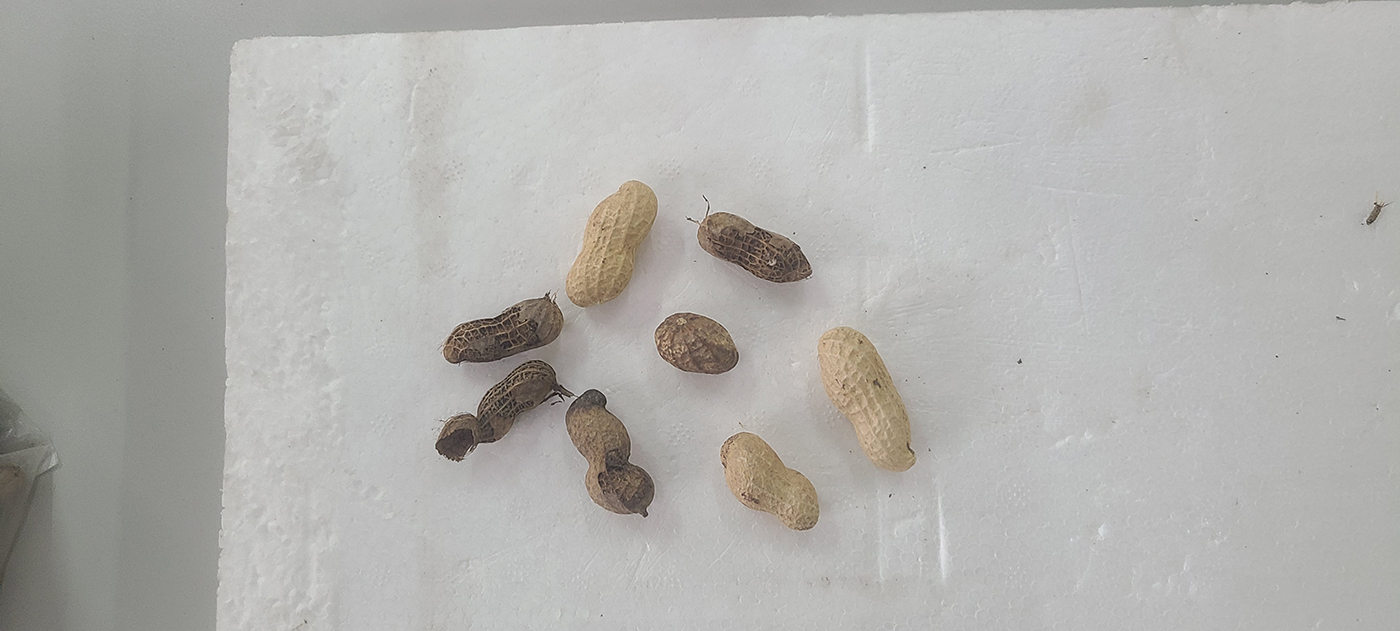h: (817, 326, 916, 472), (564, 180, 658, 306), (720, 431, 820, 530)
l: (434, 360, 556, 461), (564, 389, 654, 514), (443, 296, 565, 366), (696, 211, 814, 283), (655, 312, 740, 373)
